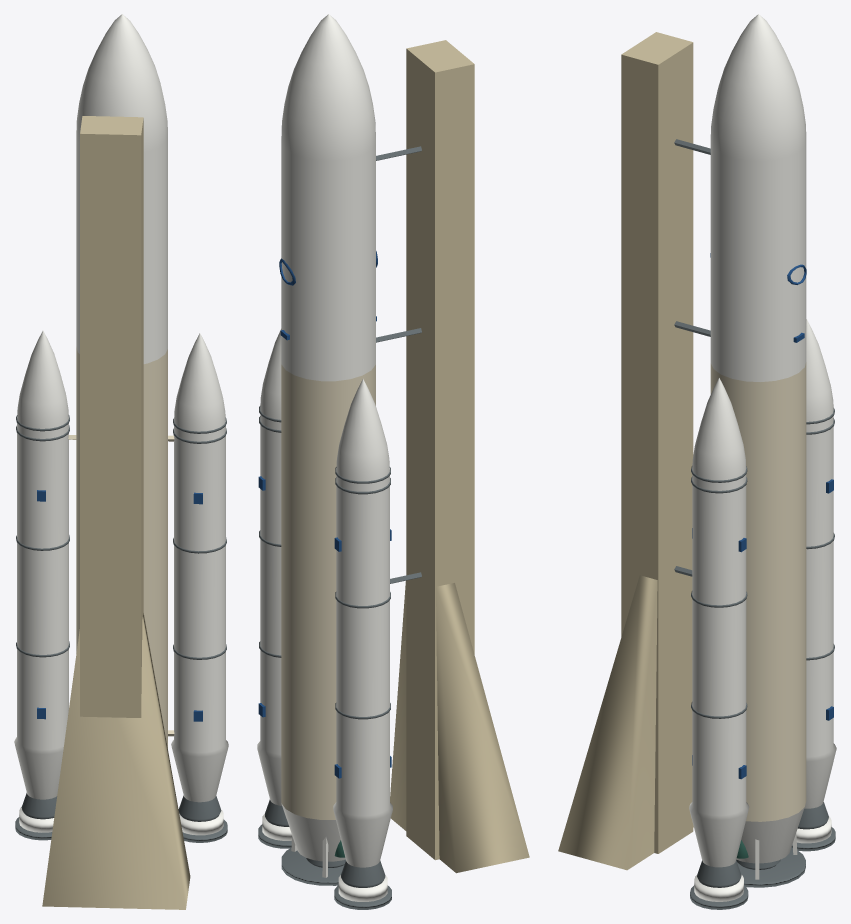
File: cite-de-l-espace-far.glb
3 renders of one model, left to right at view 1: azimuth 30°, elevation 25°; view 2: azimuth 150°, elevation 25°; view 3: azimuth 270°, elevation 25°, orthographic. The views are drawn at different scales.
Parts seen in each view (by area): view 1: cite-de-l-espace-0-tan, cite-de-l-espace-0-white, cite-de-l-espace-0-ivory, cite-de-l-espace-0-metal; view 2: cite-de-l-espace-0-white, cite-de-l-espace-0-tan, cite-de-l-espace-0-ivory, cite-de-l-espace-0-metal, cite-de-l-espace-0-blue; view 3: cite-de-l-espace-0-white, cite-de-l-espace-0-tan, cite-de-l-espace-0-ivory, cite-de-l-espace-0-metal, cite-de-l-espace-0-blue.
Part boxes in pixels (x1,y1,x2,y2): cite-de-l-espace-0-tan: (42, 116, 190, 909); cite-de-l-espace-0-white: (14, 14, 228, 835); cite-de-l-espace-0-ivory: (68, 347, 174, 748); cite-de-l-espace-0-metal: (15, 415, 227, 842); cite-de-l-espace-0-white: (257, 14, 392, 901); cite-de-l-espace-0-tan: (390, 40, 529, 873); cite-de-l-espace-0-ivory: (281, 364, 375, 819); cite-de-l-espace-0-metal: (258, 146, 421, 909); cite-de-l-espace-0-blue: (258, 251, 391, 778); cite-de-l-espace-0-white: (689, 14, 836, 901); cite-de-l-espace-0-tan: (558, 32, 693, 870); cite-de-l-espace-0-ivory: (710, 362, 806, 821); cite-de-l-espace-0-metal: (674, 139, 835, 909); cite-de-l-espace-0-blue: (692, 253, 833, 779).
Size of the model in its own units: 14.95 by 53 by 15.68.
